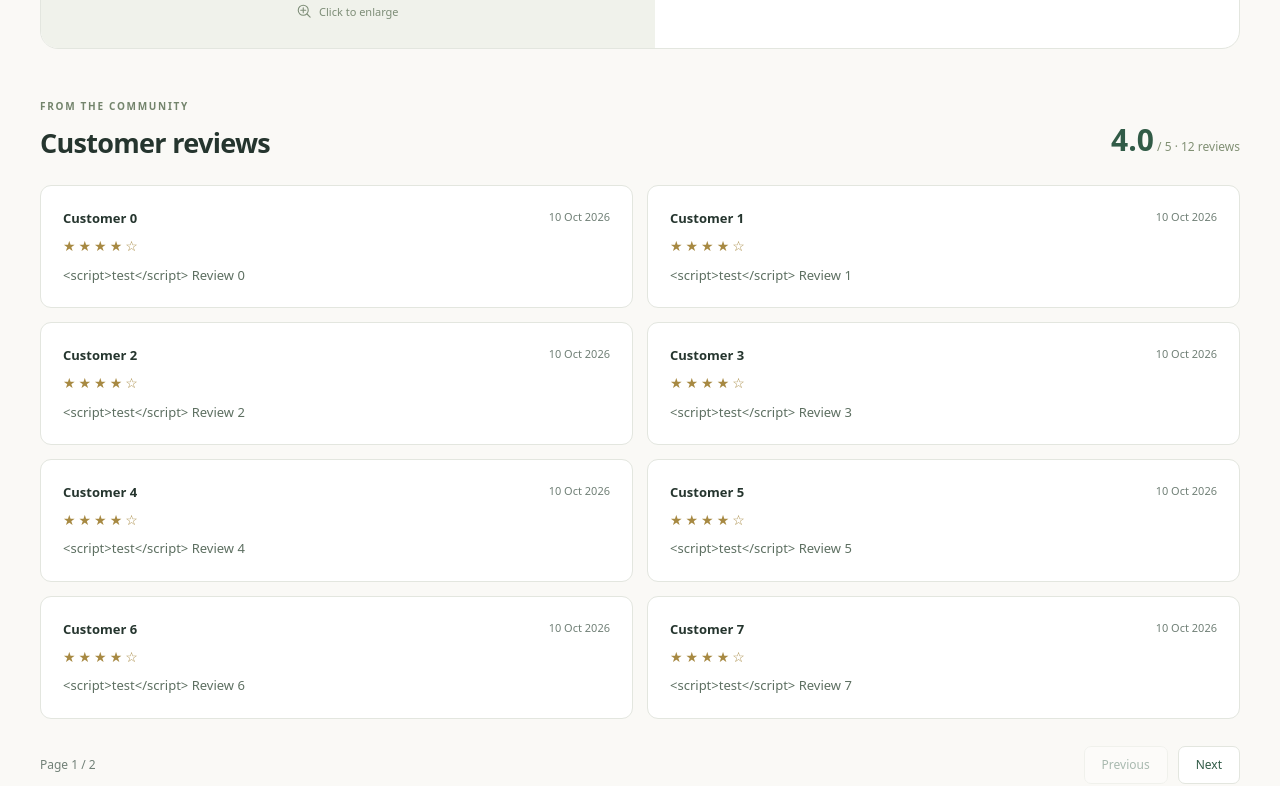
Test case: Product detail and persistent customer reviews › paginates a large review history and safely renders customer content
This screenshot has width=1280, height=786.
(page scrolled)
Click the button "Next". click: click(1209, 765)
box: [1178,746,1240,784]
(page scrolled)
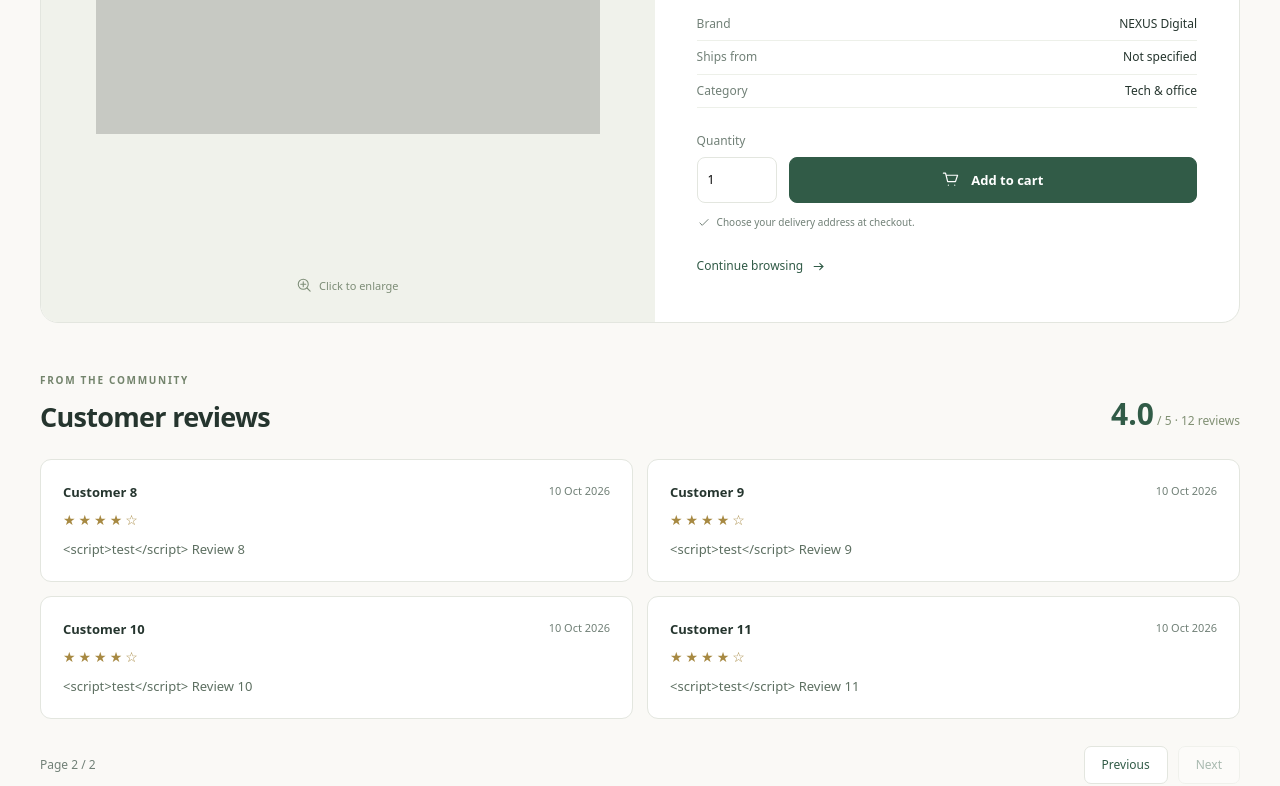
Now the number of elements with class "review-card" is 4, box [40,459,633,582]; [647,459,1240,582]; [40,596,633,719]; [647,596,1240,719]
Now the text with class "review-comment" shows "Review 8", box [63,540,245,558]
